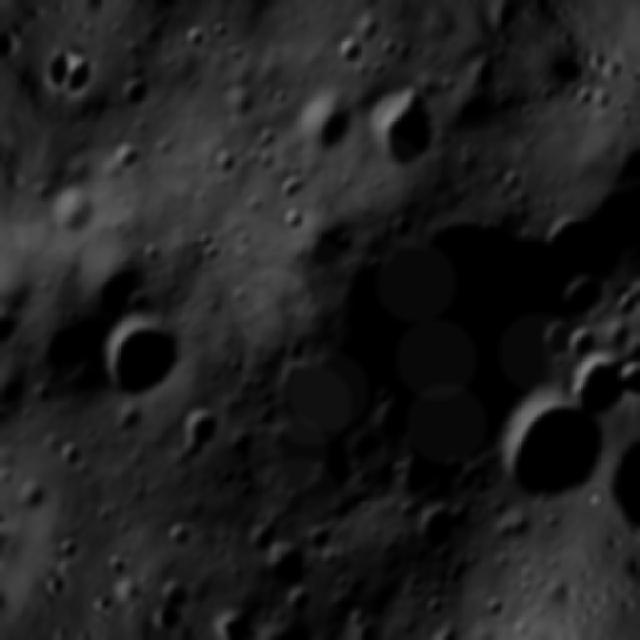crater: (241, 141, 597, 517), (465, 382, 613, 544), (79, 288, 199, 417), (346, 65, 460, 190), (22, 298, 120, 398), (28, 172, 112, 266), (561, 339, 640, 428), (284, 87, 364, 171), (252, 532, 332, 612), (163, 398, 231, 468), (94, 61, 158, 134), (316, 24, 372, 82), (0, 297, 42, 366), (60, 48, 108, 108), (212, 597, 274, 640)
